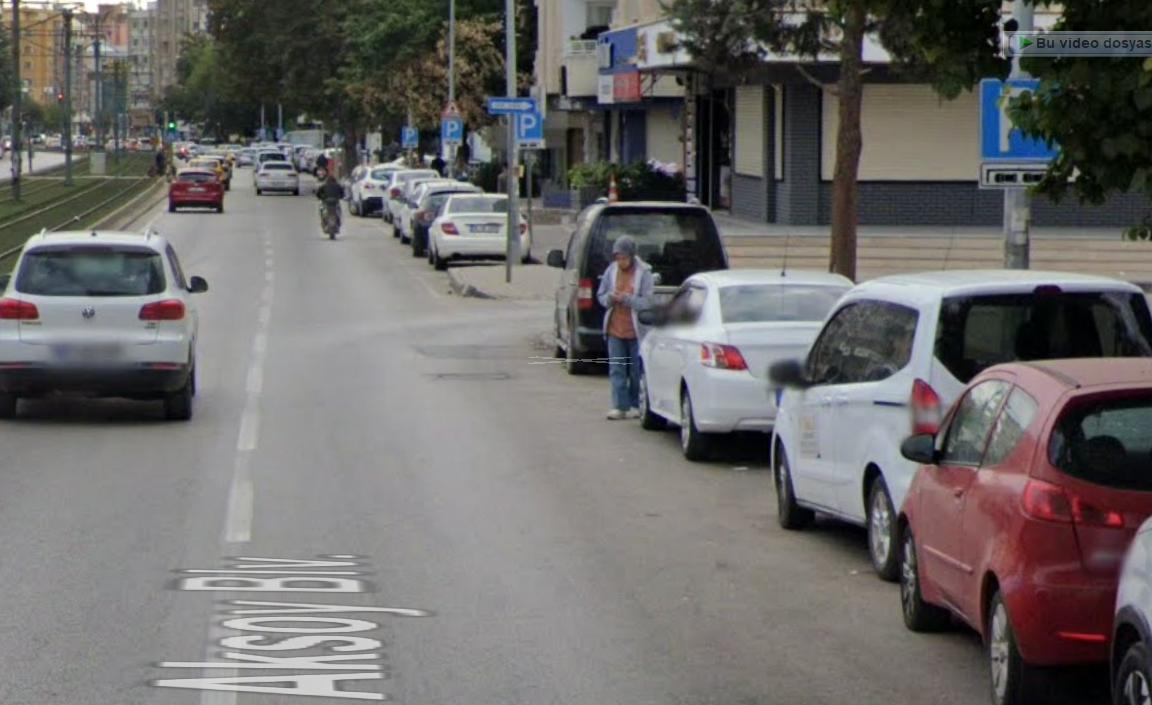park: (517, 111, 544, 141), (444, 119, 462, 143)
